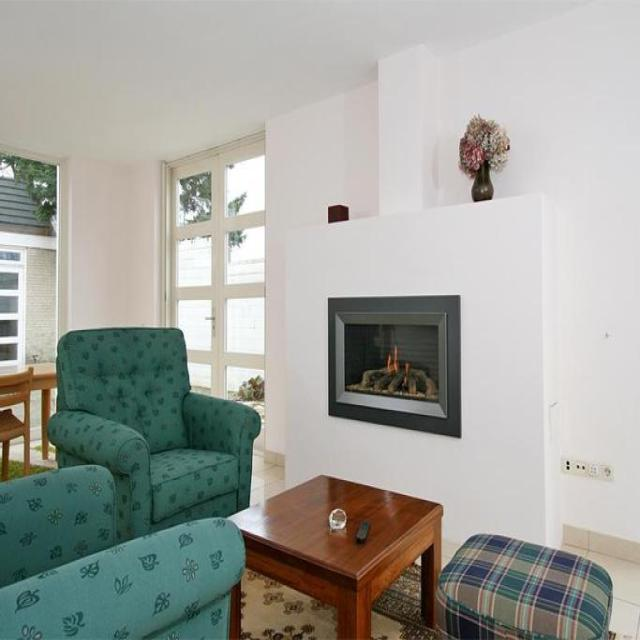indoor-plant: (457, 111, 510, 201)
pots: (470, 162, 493, 202)
rugs: (237, 556, 445, 639)
sofa: (46, 325, 261, 541), (0, 461, 245, 639)
table: (225, 472, 443, 638)
white-board: (283, 190, 556, 550)
window: (161, 126, 265, 442)
